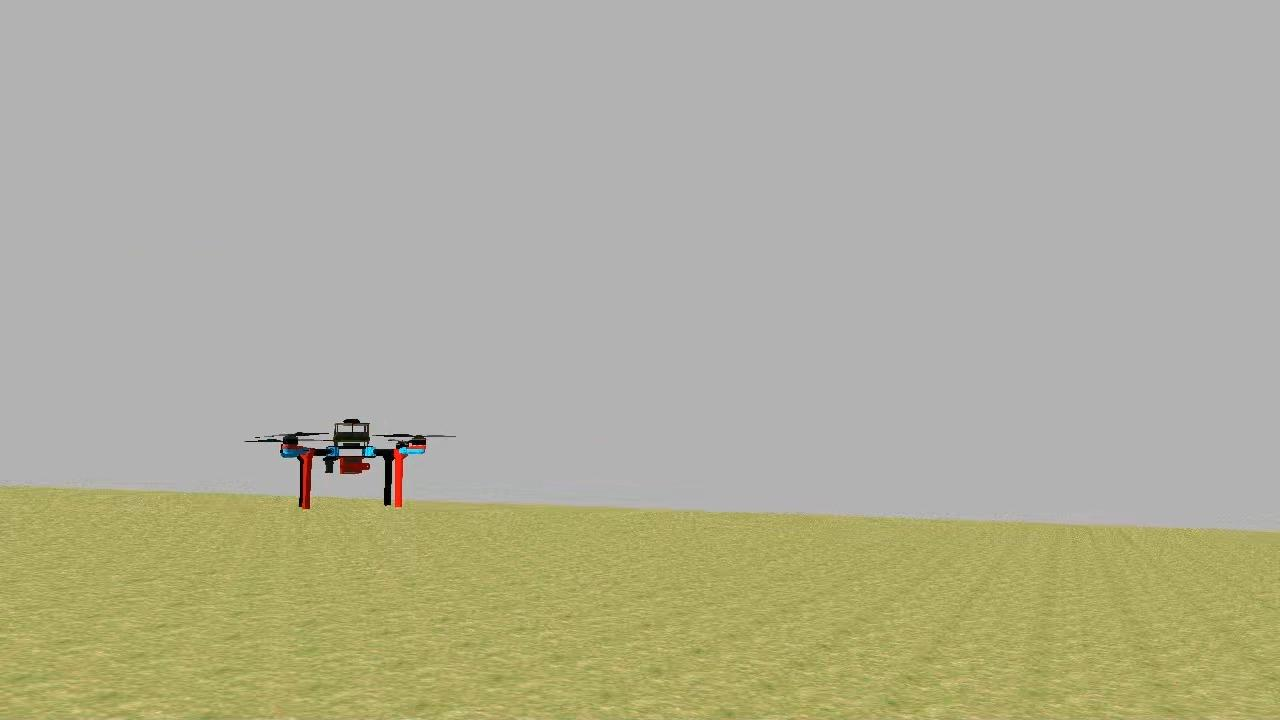UAV: (274, 410, 433, 514)
